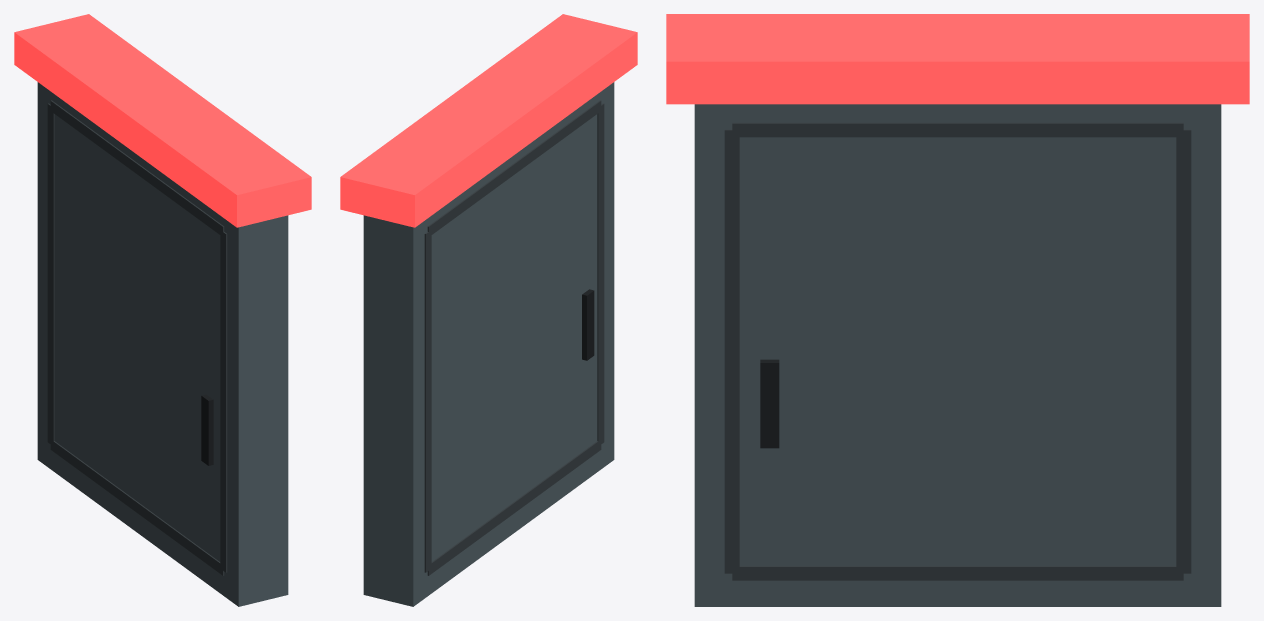
File: lab_door_slab_a.glb
3 renders of one model, left to right at view 1: azimuth 30°, elevation 25°; view 2: azimuth 150°, elevation 25°; view 3: azimuth 270°, elevation 25°, orthographic. The views are drawn at different scales.
Visible parts, largest first — view 1: DoorSlab, emit_strip; view 2: DoorSlab, emit_strip; view 3: DoorSlab, emit_strip.
Part boxes in pixels (x1,y1,x2,y2): DoorSlab: (37, 82, 288, 606); emit_strip: (14, 14, 311, 227); DoorSlab: (363, 82, 614, 606); emit_strip: (340, 14, 637, 227); DoorSlab: (694, 104, 1221, 606); emit_strip: (666, 14, 1249, 104).
Size of the model in its own units: 0.6 by 3.24 by 3.1.
